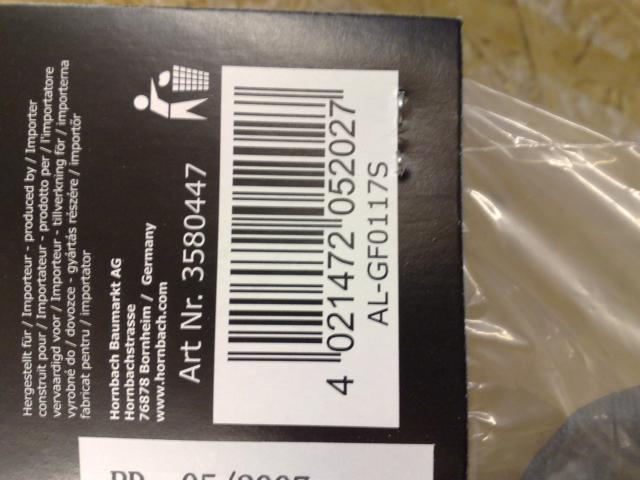Barcode: (219, 79, 363, 407)
